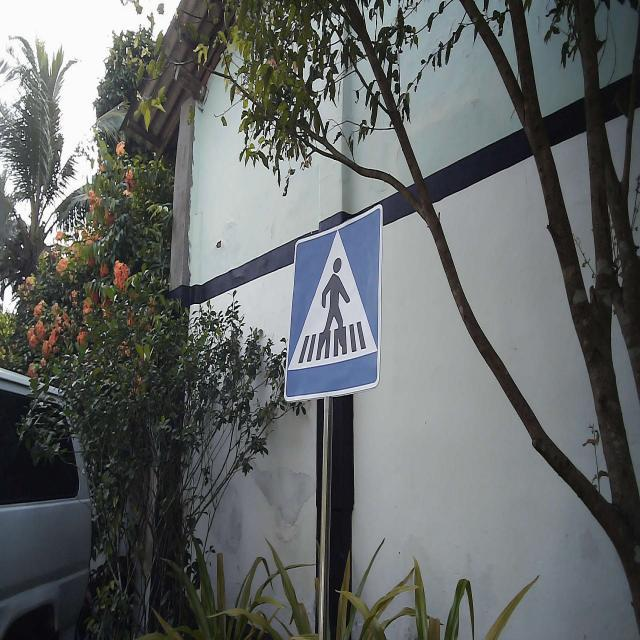crosswalk_sign: (283, 202, 385, 406)
